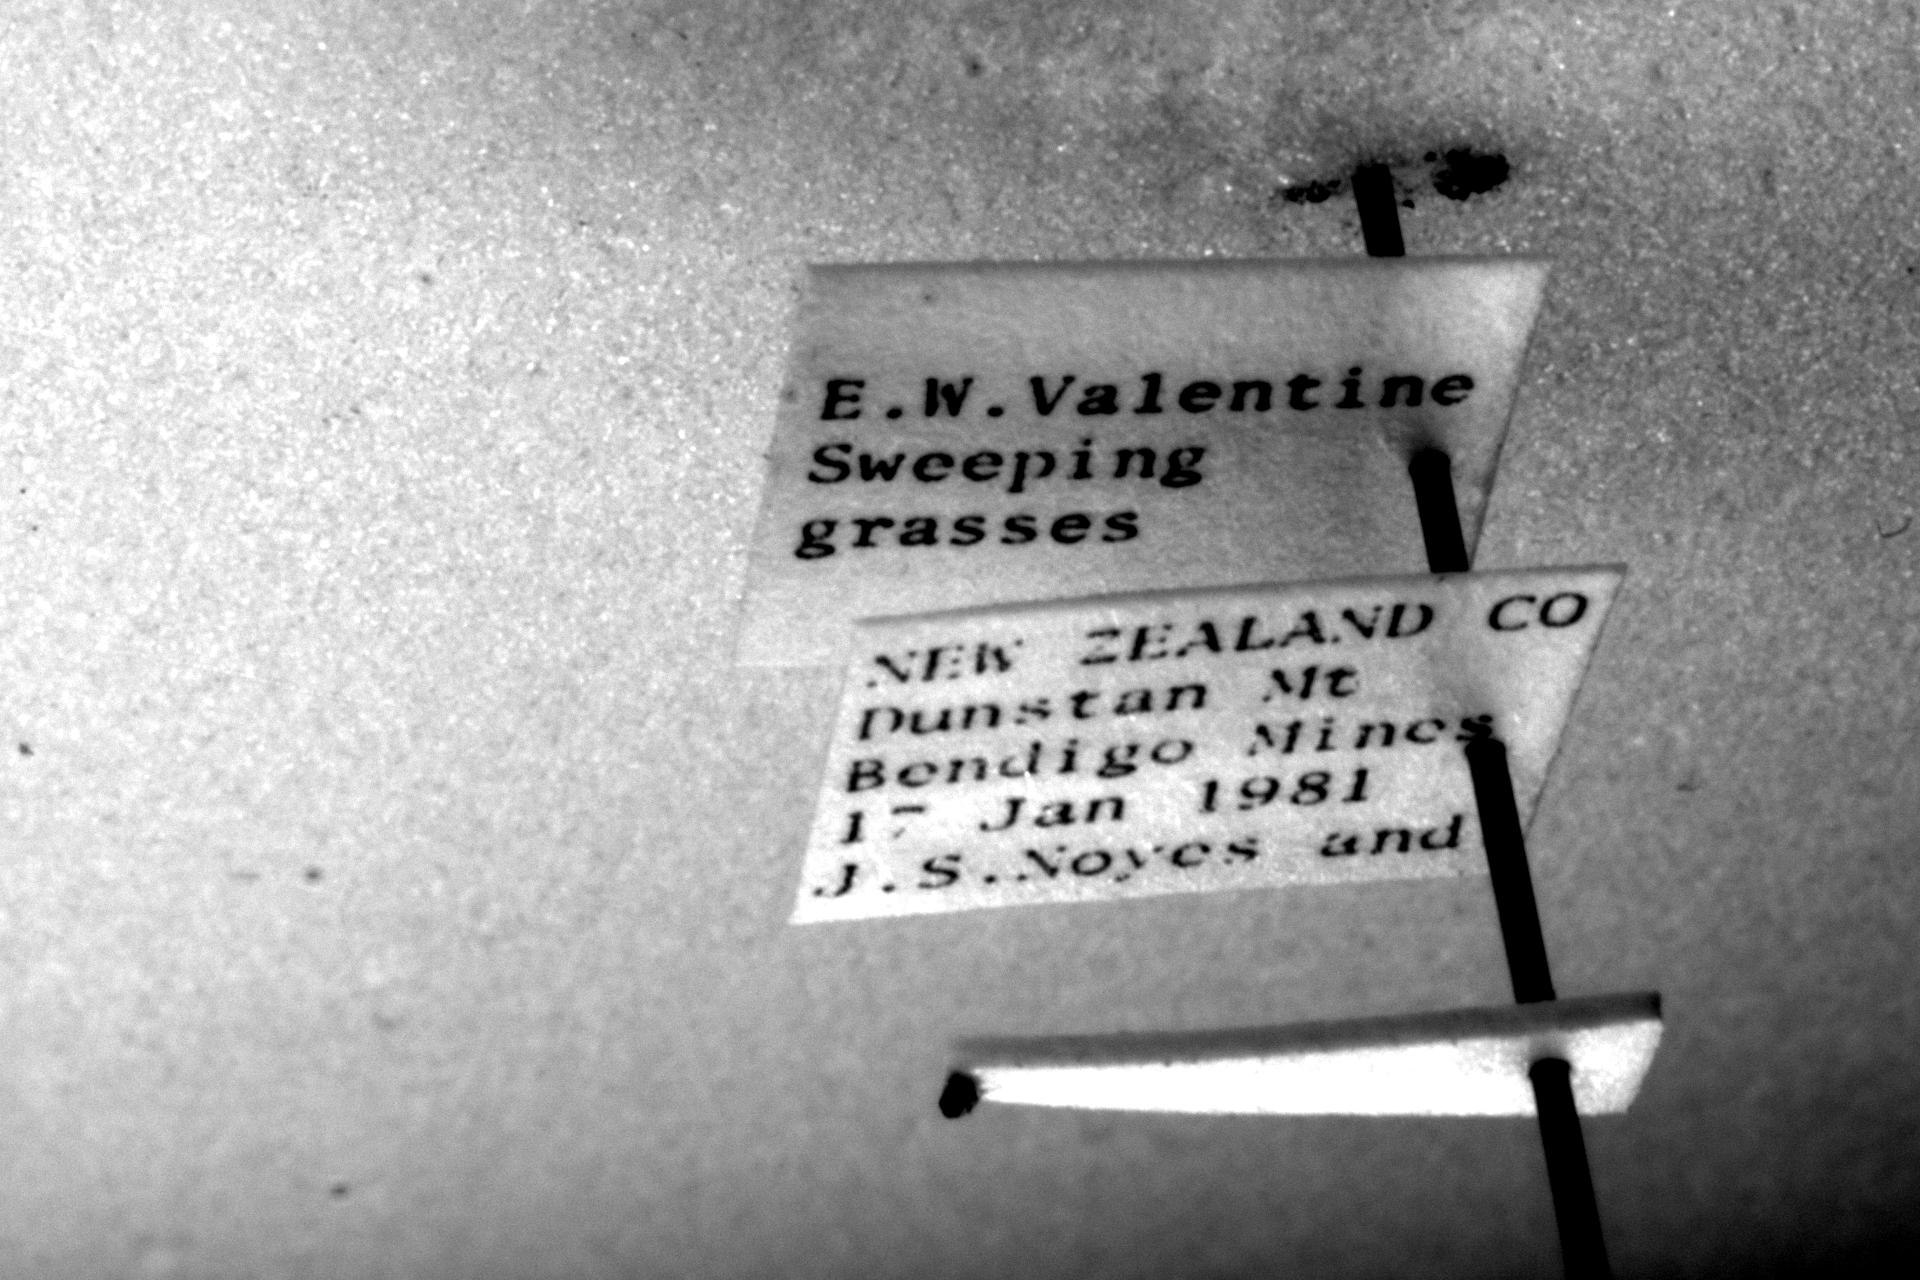typed_label: (734, 259, 1549, 667), (794, 566, 1624, 923)
